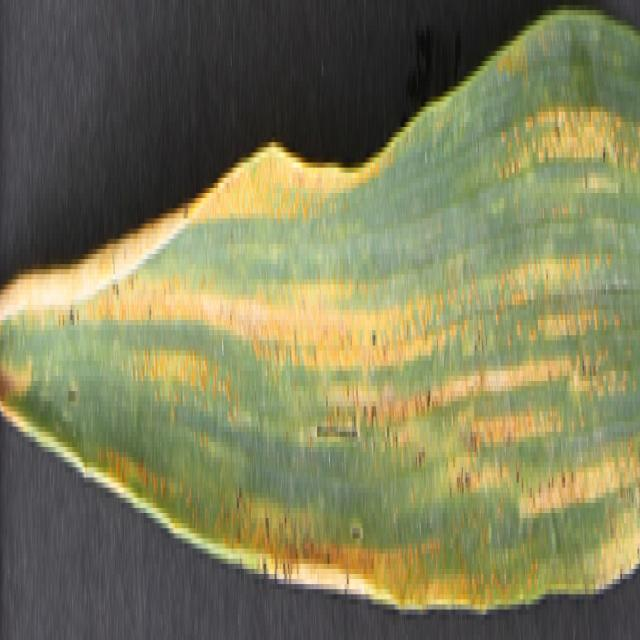leaf rust: (67, 92, 638, 584)
